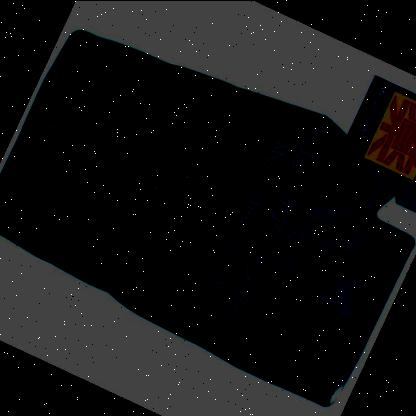Others: (0, 27, 416, 405)
